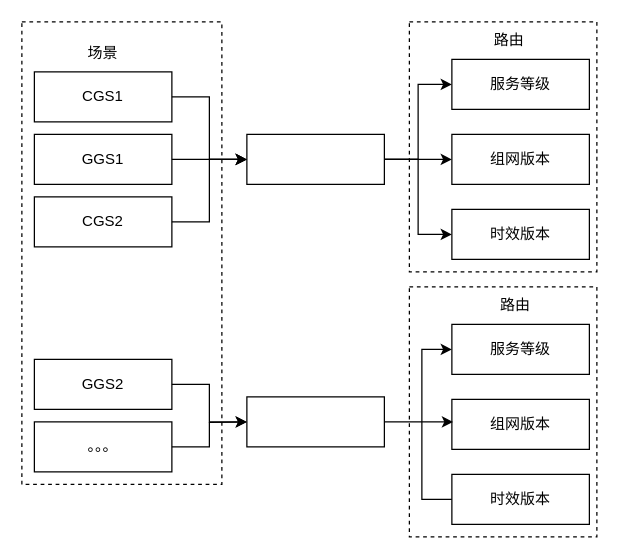
The diagram is 619 pixels wide and 559 high, and some of its shapes have lost their labels. The shapes that lost their labels are listed below. From the top down, each one's box as (x1, y1, x2, y2) in pixels, then its label:
(246, 133, 384, 184): SKU1
(246, 396, 384, 447): SKU2
